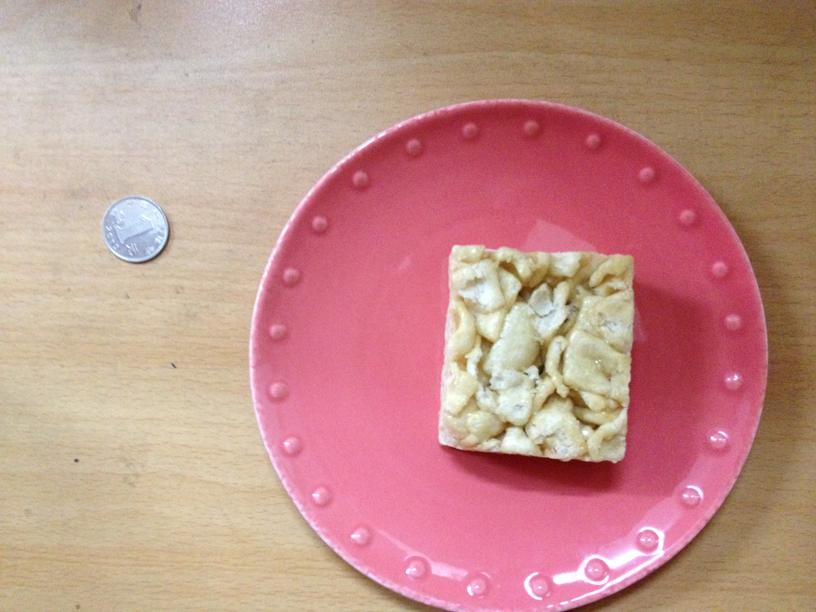coin: (104, 196, 168, 261)
sachima: (440, 242, 633, 465)
